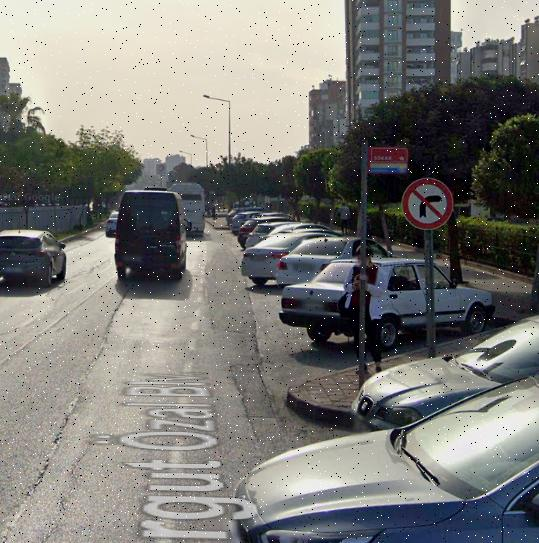rightturnsareforbidden: (401, 177, 454, 231)
